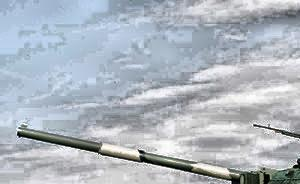tanks: (20, 126, 300, 184), (290, 135, 300, 139)
